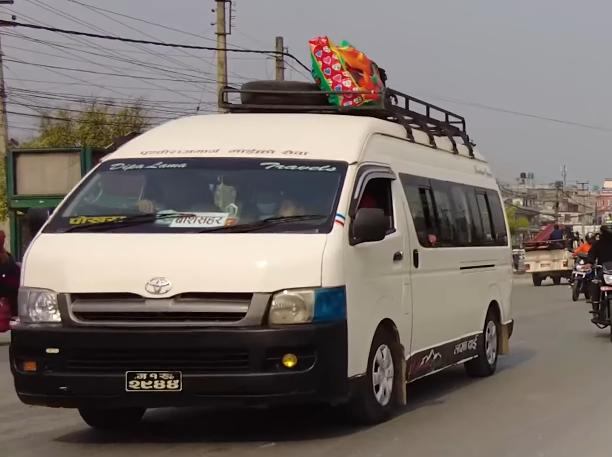bike: (591, 259, 612, 347)
micro_bus: (5, 73, 518, 426)
transport_vehicle: (525, 218, 585, 287)
